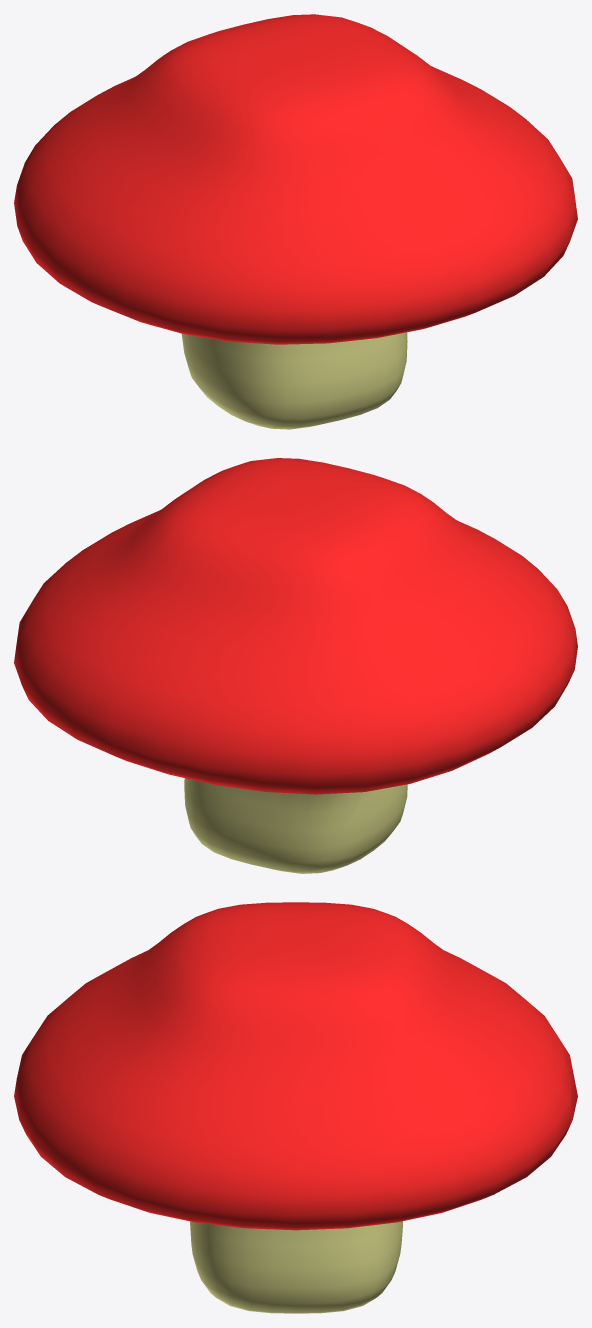
Rendered from M_Mushroom.fbx.
The picture shows the model from 3 angles, top to bottom: view 1: azimuth 30°, elevation 25°; view 2: azimuth 150°, elevation 25°; view 3: azimuth 270°, elevation 25°; orthographic projection.
Parts seen in each view (by area): view 1: M_Mushroom; view 2: M_Mushroom; view 3: M_Mushroom.
Boxes of the visible parts, x1,y1,x2,y2 form: M_Mushroom: [14, 14, 577, 429]; M_Mushroom: [14, 458, 577, 873]; M_Mushroom: [14, 902, 577, 1313].
Bounding box in the file's own units: 0.794 × 0.5437 × 0.7938.
1 material, 1 textured.
